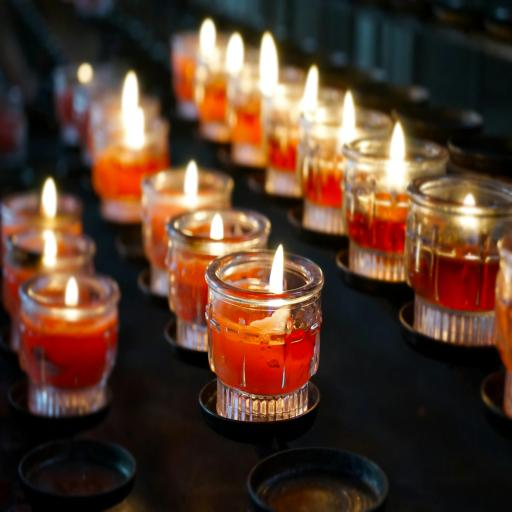candlelight: (205, 246, 324, 422), (402, 175, 510, 345), (343, 134, 447, 280), (17, 270, 119, 418), (169, 208, 270, 350), (142, 165, 228, 292), (90, 103, 170, 220), (297, 89, 372, 213), (0, 188, 82, 278), (264, 70, 320, 191), (196, 28, 240, 138), (225, 56, 268, 164), (51, 62, 103, 150), (169, 30, 205, 121)
